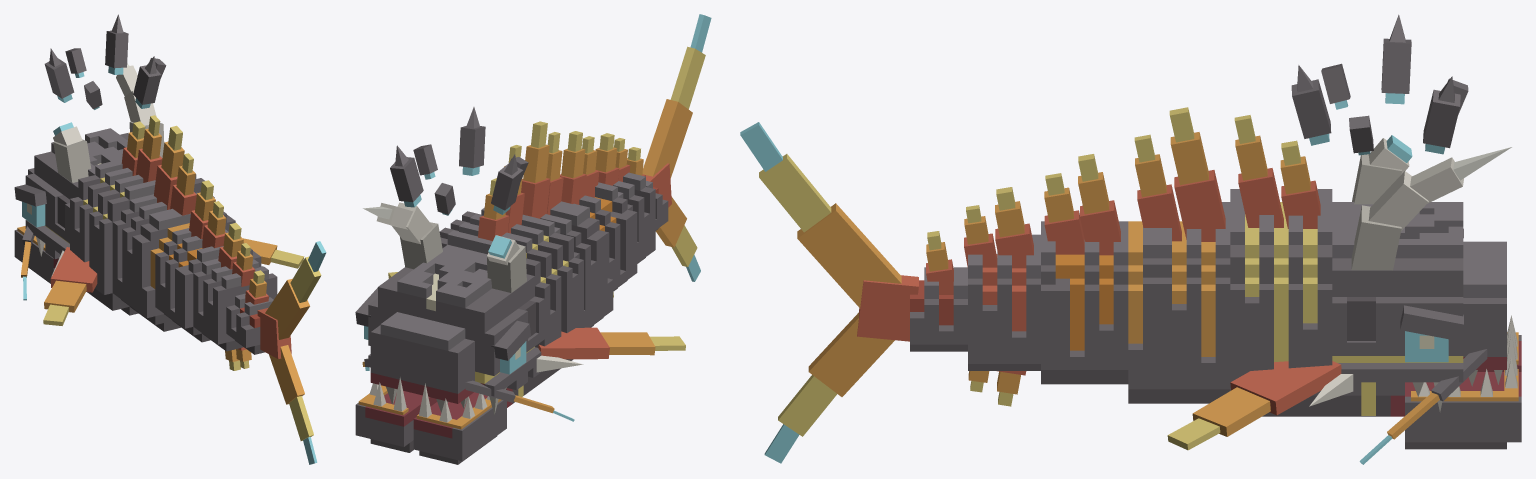
Rendered from Hellmaw.glb.
The picture shows the model from 3 angles, left to right: view 1: azimuth 30°, elevation 25°; view 2: azimuth 150°, elevation 25°; view 3: azimuth 270°, elevation 25°; orthographic projection. The views are drawn at different scales.
Parts seen in each view (by area): view 1: Head, S1, S2, S1_Glow, S3, S4, Crown, Tail, S2_Glow, S3_Glow, S4_Glow, S5 (+7 smaller); view 2: Head, S1, S1_Glow, Crown, JawL, S2, Tail, S3, JawR, S2_Glow, S3_Glow, S4 (+11 smaller); view 3: Head, S1_Glow, S2, S1, S2_Glow, Tail, S3, S3_Glow, Crown, JawR, S4, S4_Glow (+8 smaller).
Part boxes in pixels (x1,y1,x2,y2): Head: (14, 63, 164, 276); S1: (70, 159, 214, 315); S2: (112, 191, 235, 331); S1_Glow: (43, 115, 304, 325); S3: (155, 228, 261, 342); S4: (193, 258, 277, 351); Crown: (44, 14, 166, 109); Tail: (257, 278, 309, 404); S2_Glow: (150, 125, 196, 288); S3_Glow: (169, 180, 226, 267); S4_Glow: (218, 223, 255, 370); S5: (226, 293, 273, 354); Head: (355, 202, 583, 415); S1: (439, 207, 583, 387); S1_Glow: (388, 145, 685, 359); Crown: (390, 107, 528, 214); JawL: (413, 383, 506, 464); S2: (540, 201, 613, 327); Tail: (642, 99, 692, 247); S3: (573, 182, 637, 291); JawR: (355, 377, 436, 452); S2_Glow: (521, 121, 563, 218); S3_Glow: (560, 131, 616, 231); S4: (613, 172, 655, 263); Head: (1309, 138, 1511, 416); S1_Glow: (1167, 115, 1341, 450); S2: (1128, 202, 1230, 403); S1: (1230, 189, 1332, 416); S2_Glow: (1128, 107, 1225, 356); Tail: (797, 203, 918, 396); S3: (1041, 221, 1128, 384); S3_Glow: (1044, 154, 1120, 350); Crown: (1291, 14, 1468, 153); JawR: (1405, 331, 1521, 449); S4: (968, 234, 1040, 370); S4_Glow: (964, 187, 1033, 406).
Size of the model in its own units: 17.81 by 18.07 by 31.11.
